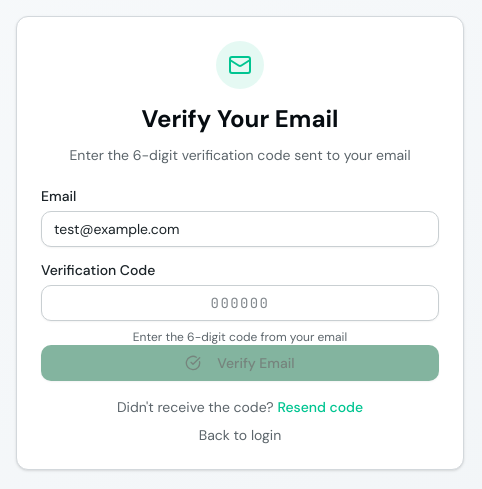
Test: VerifyEmail Page › Code Input Validation › enables submit button when code has 6 digits and email is present
The image size is (482, 489).
In the field labelled "Verification Code": (240, 303) [41,285,439,321], type "123456"
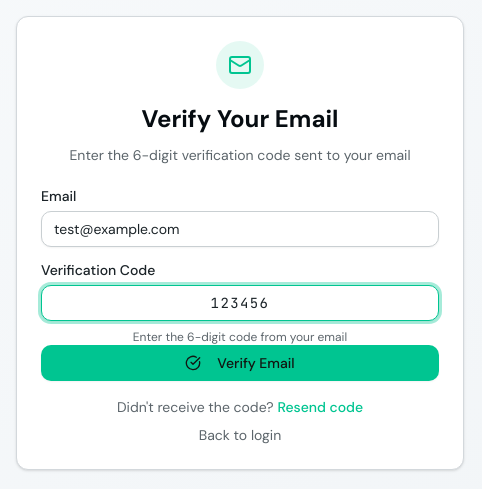
Result: the button "Verify Email" is enabled at [41,345,439,381]
